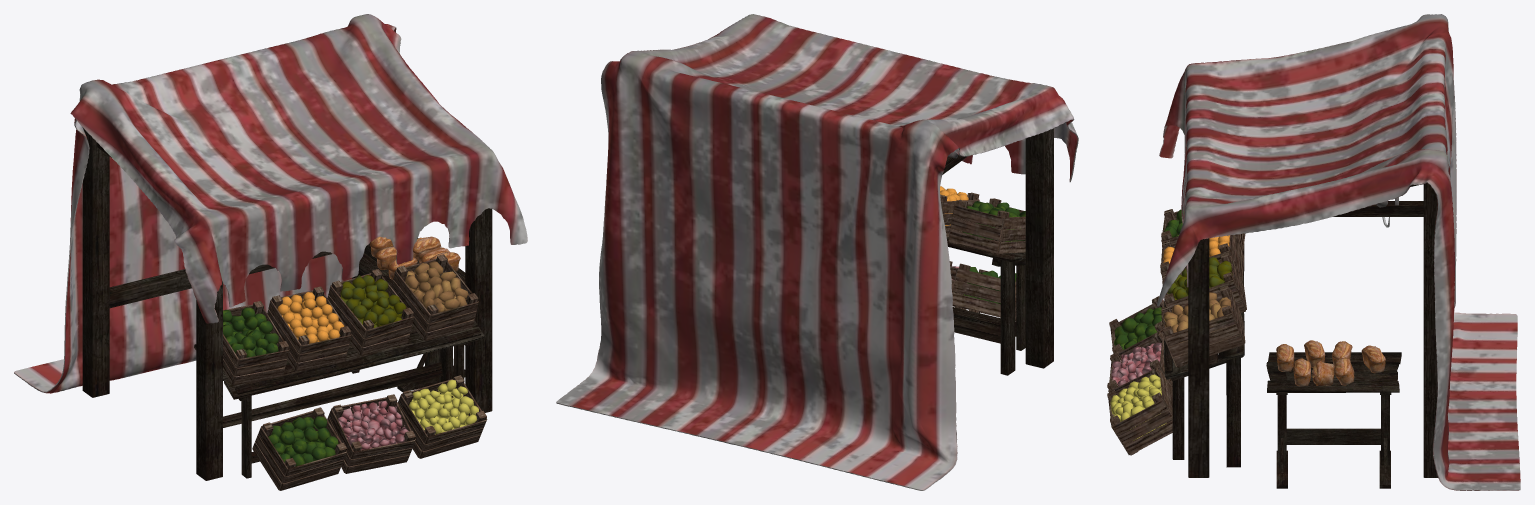
The picture shows the model from 3 angles, left to right: view 1: azimuth 30°, elevation 25°; view 2: azimuth 150°, elevation 25°; view 3: azimuth 270°, elevation 25°; orthographic projection. The views are drawn at different scales.
Visible parts, largest first — view 1: SM_Asset_Props; view 2: SM_Asset_Props; view 3: SM_Asset_Props.
Boxes of the visible parts, x1,y1,x2,y2 form: SM_Asset_Props: (14, 14, 527, 490); SM_Asset_Props: (556, 14, 1078, 490); SM_Asset_Props: (1107, 14, 1520, 490).
Size of the model in its own units: 3.09 by 2.62 by 3.06.
7 materials, 6 textured.
